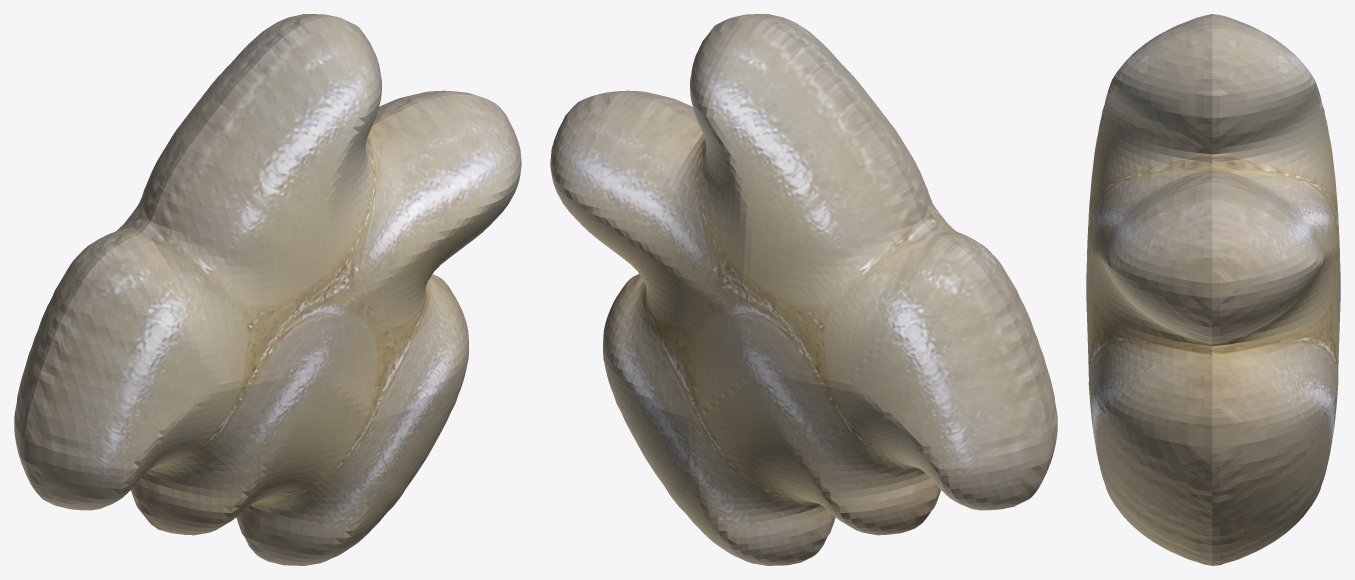
File: eggs_cluster.glb
The picture shows the model from 3 angles, left to right: view 1: azimuth 30°, elevation 25°; view 2: azimuth 150°, elevation 25°; view 3: azimuth 270°, elevation 25°; orthographic projection.
Parts seen in each view (by area): view 1: eggs_cluster; view 2: eggs_cluster; view 3: eggs_cluster.
Part boxes in pixels (x1,y1,x2,y2): eggs_cluster: (14,14,521,565); eggs_cluster: (550,14,1057,565); eggs_cluster: (1086,14,1340,565).
Bounding box in the file's own units: 0.8738 × 0.9192 × 0.3873.
1 material, 1 textured.
